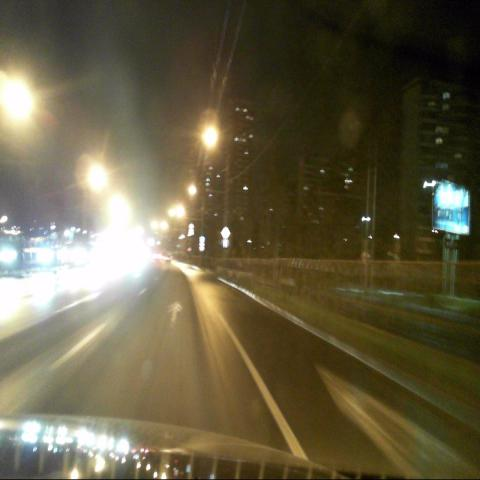2_1: (222, 225, 230, 239)
